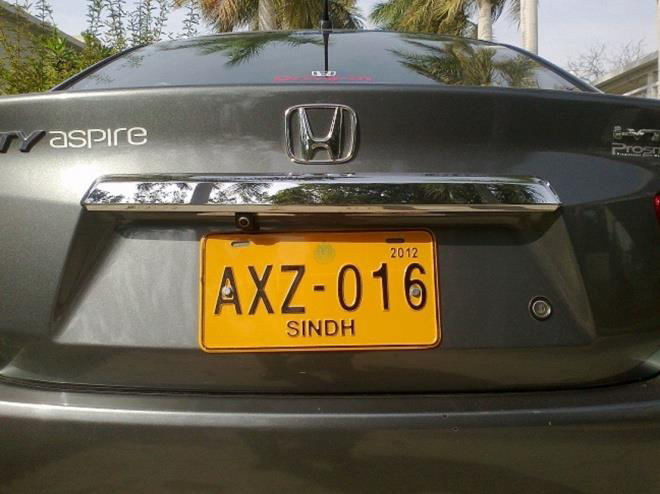number_plate: (196, 228, 442, 352)
